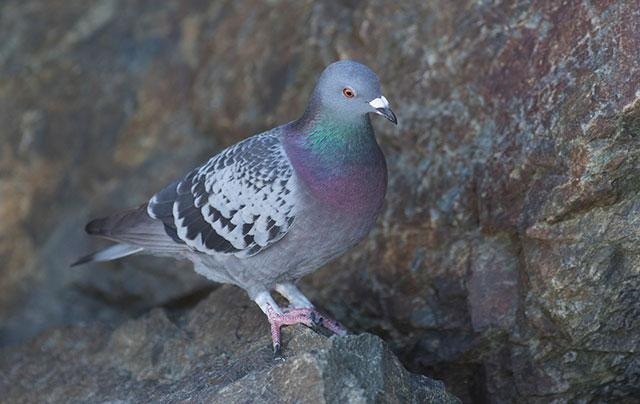Flying Rat: (73, 59, 396, 346)
